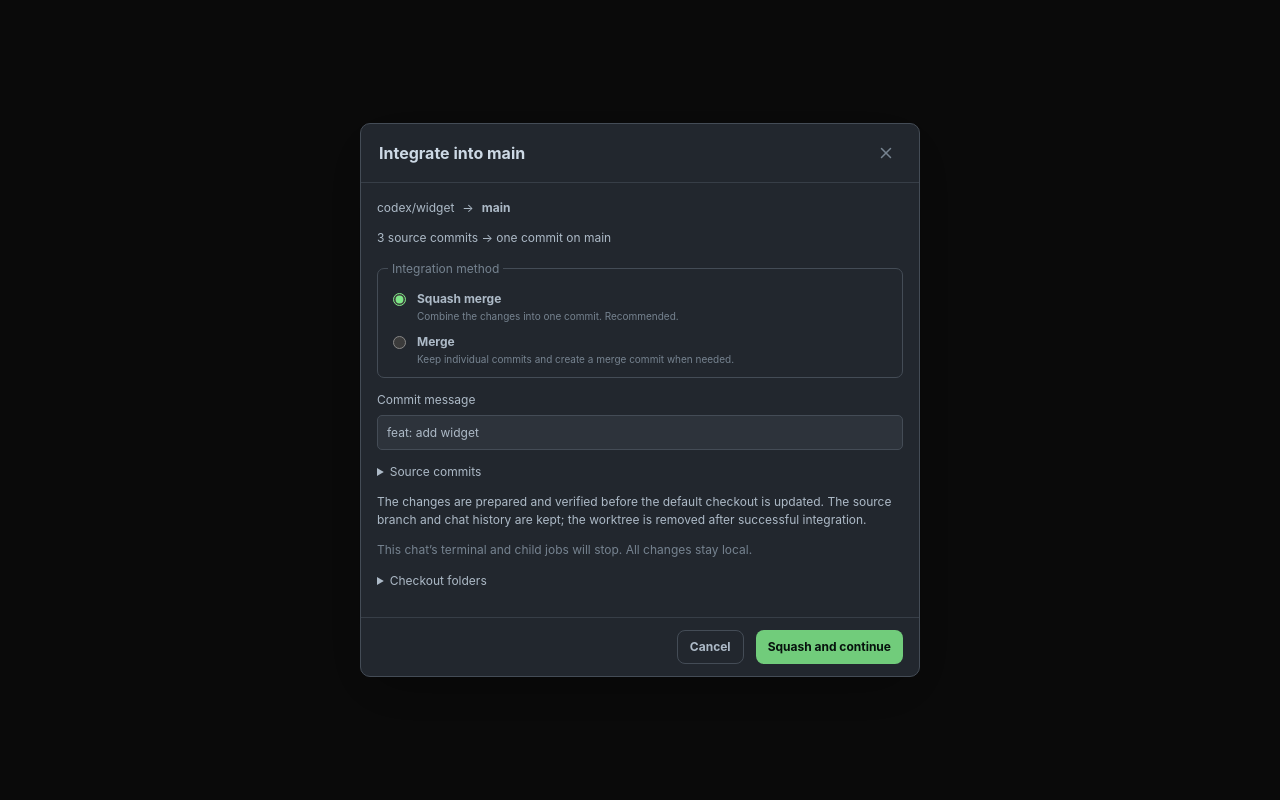
offers a normal merge and supports cancellation without submitting
Later steps or results of the test are not shown.
Click the 2nd radio button.
click(400, 342)  # box x1=393 y1=336 x2=406 y2=349
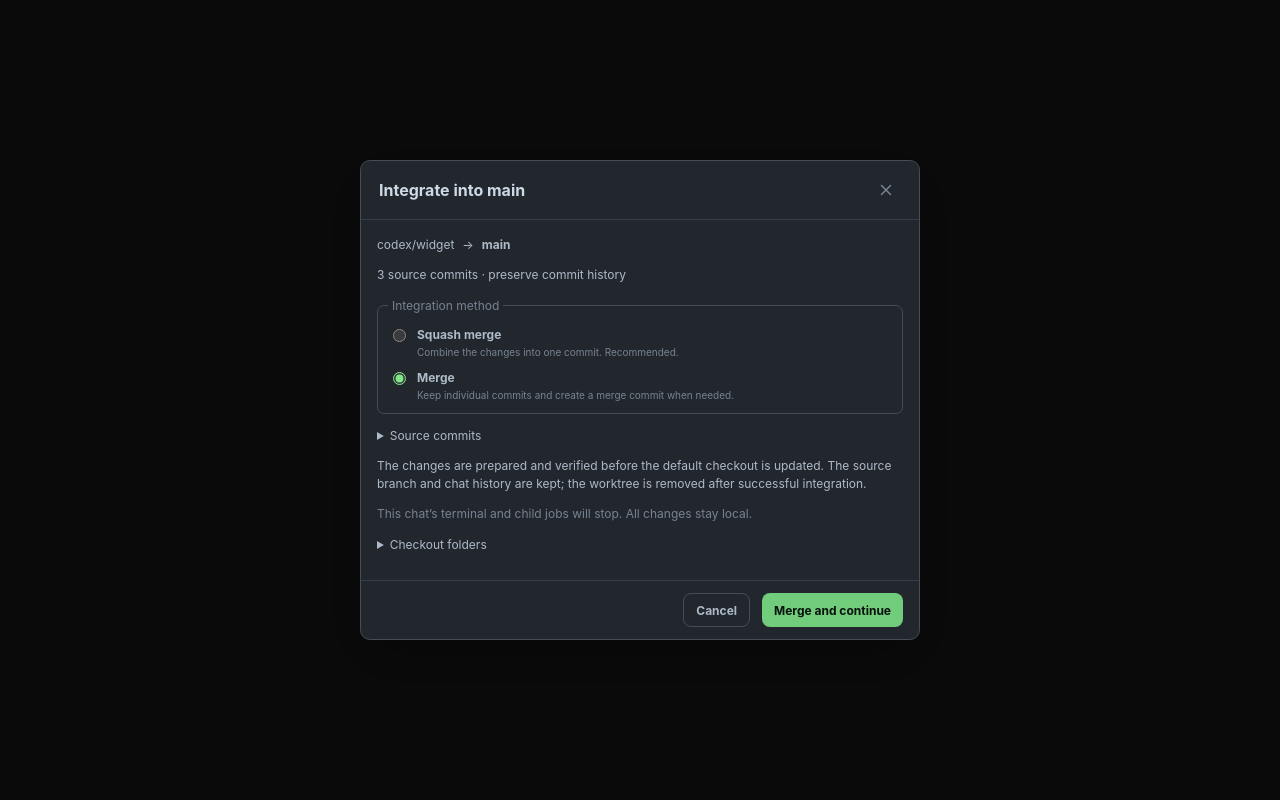
Expected: the text "preserve commit history" is shown, x1=478 y1=266 x2=626 y2=282
